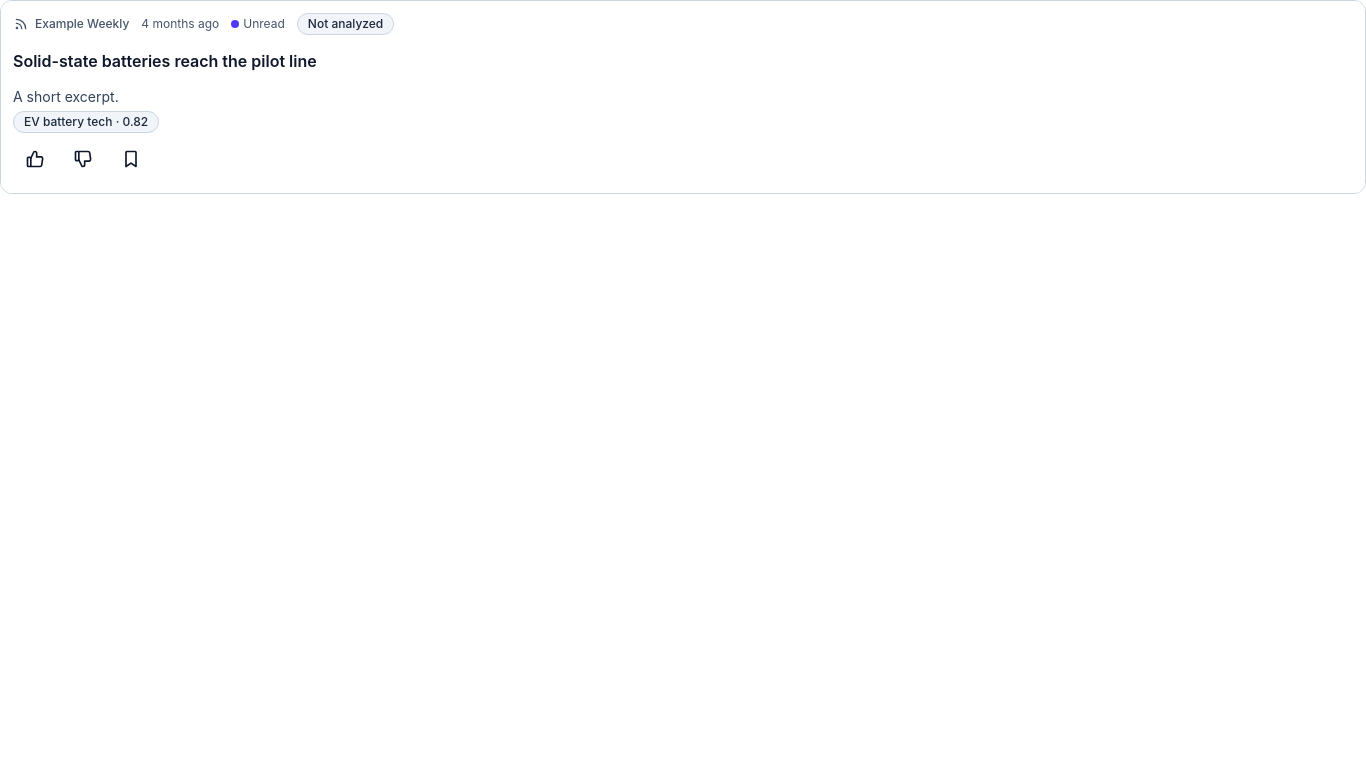
Teach › sends the article with side yes to the card, swaps the cached id and confirms
This screenshot has width=1366, height=768.
Click the button named "Like".
click(35, 159)  # box [13,137,57,181]
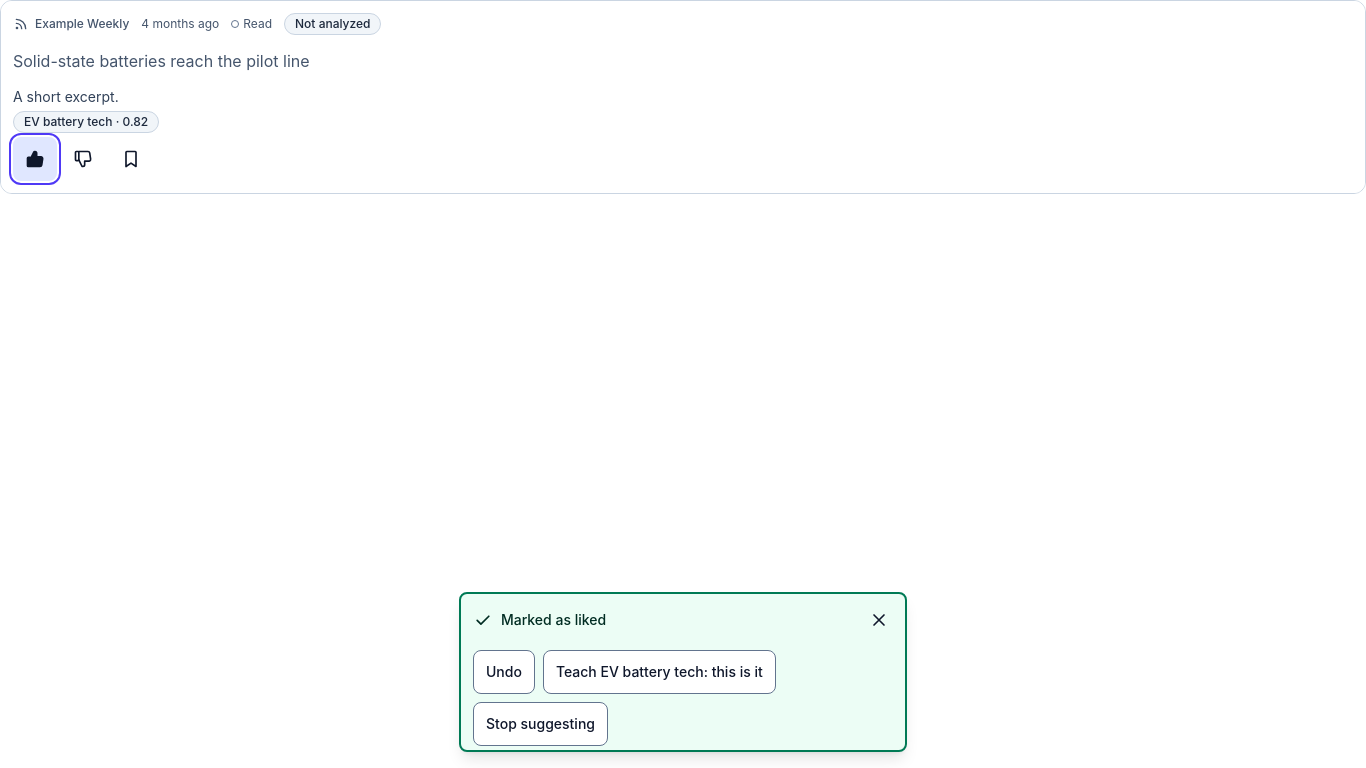
Click the button "Teach EV battery tech: this is it".
click(659, 672)  # box [543,650,776,694]
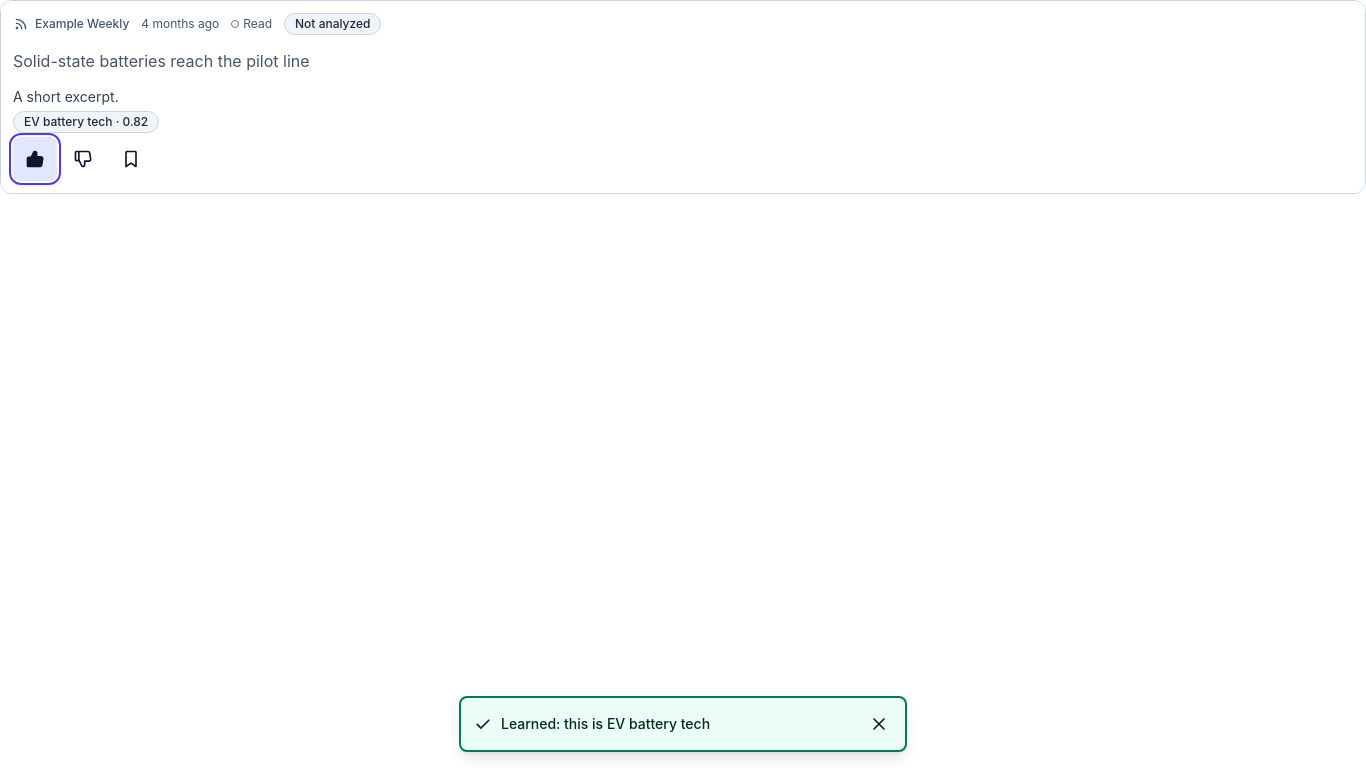
Now the text "Marked as liked" is gone
